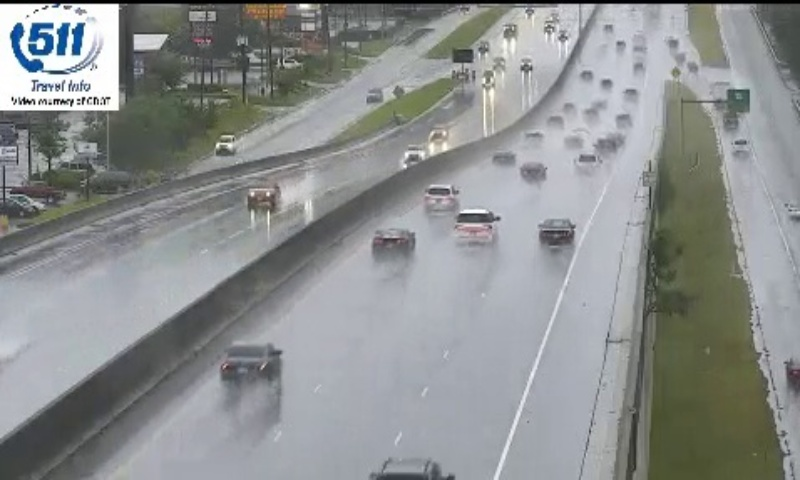car: (220, 342, 281, 380), (453, 209, 497, 243), (371, 226, 415, 257), (423, 184, 458, 215), (538, 219, 575, 247)
